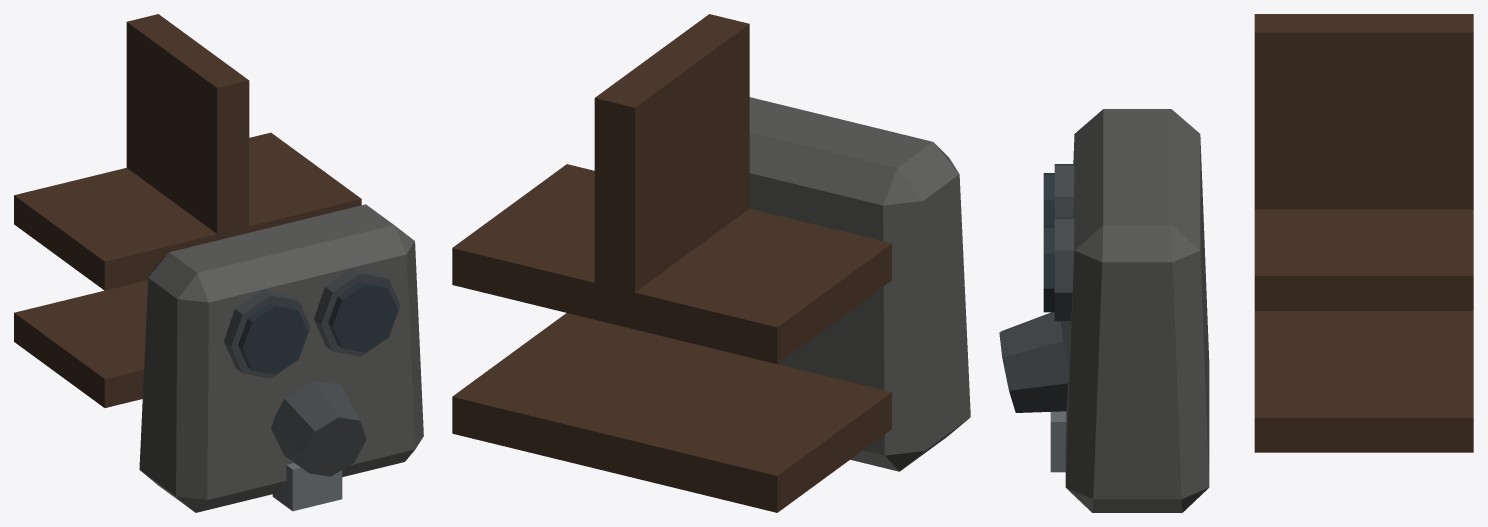
The model's file is item_gas_mask.glb.
3 renders of one model, left to right at view 1: azimuth 30°, elevation 25°; view 2: azimuth 150°, elevation 25°; view 3: azimuth 270°, elevation 25°, orthographic. The views are drawn at different scales.
Visible parts, largest first — view 1: gas_mask; view 2: gas_mask; view 3: gas_mask.
Part boxes in pixels (<box>): gas_mask: <box>14,14,423,512</box>; gas_mask: <box>452,14,970,512</box>; gas_mask: <box>999,14,1473,512</box>.
Size of the model in its own units: 0.2582 by 0.345 by 0.3415.
